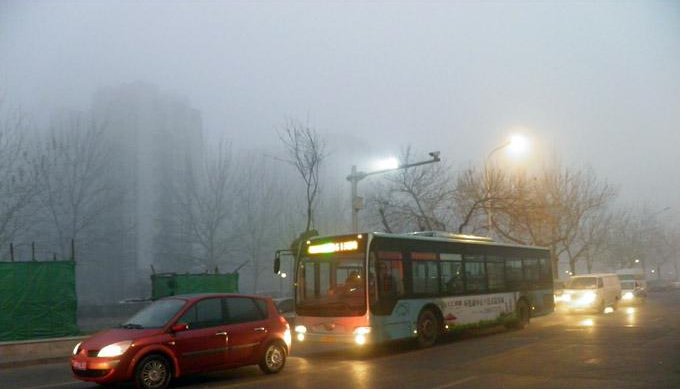bus: (270, 226, 559, 352)
car: (69, 289, 295, 387), (560, 272, 622, 316), (610, 268, 646, 299), (611, 279, 648, 307)
